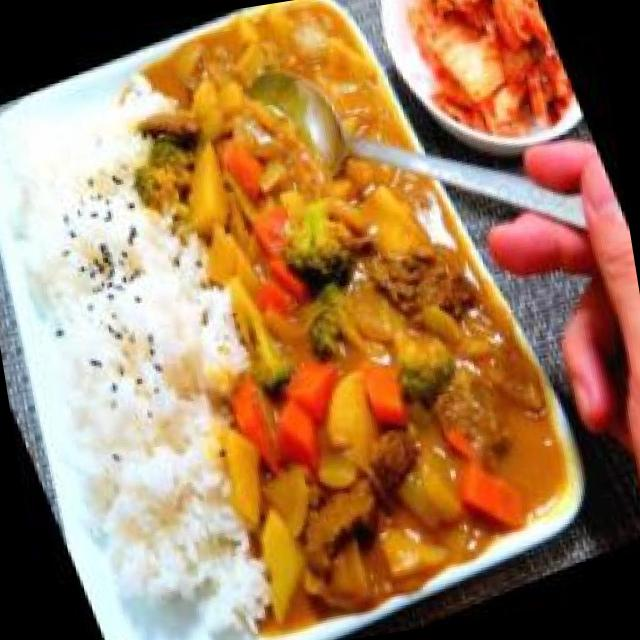curry: (119, 0, 593, 640)
rice: (0, 81, 321, 629)
